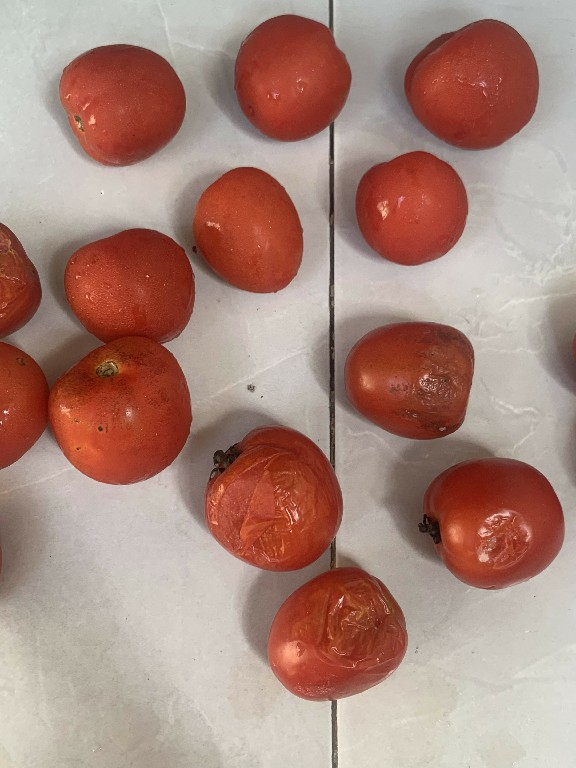NG: (189, 415, 358, 574), (43, 335, 201, 491), (265, 563, 424, 718), (423, 448, 574, 606), (338, 315, 487, 442)
OK: (398, 9, 550, 158), (43, 40, 192, 171), (182, 159, 316, 301), (60, 222, 204, 346), (227, 9, 355, 141), (349, 150, 478, 278)
